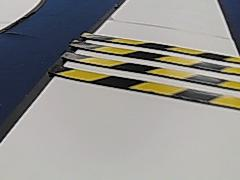bump: (51, 31, 240, 108)
